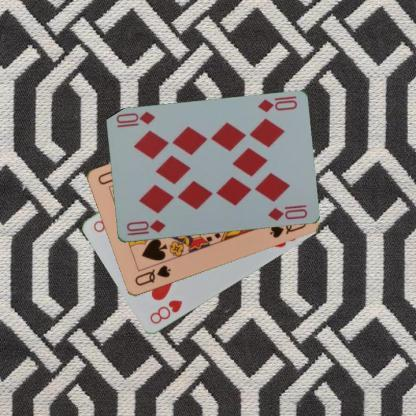10d: (254, 94, 298, 114), (124, 217, 166, 237)
8h: (146, 297, 184, 326)
Qs: (132, 263, 172, 288)
